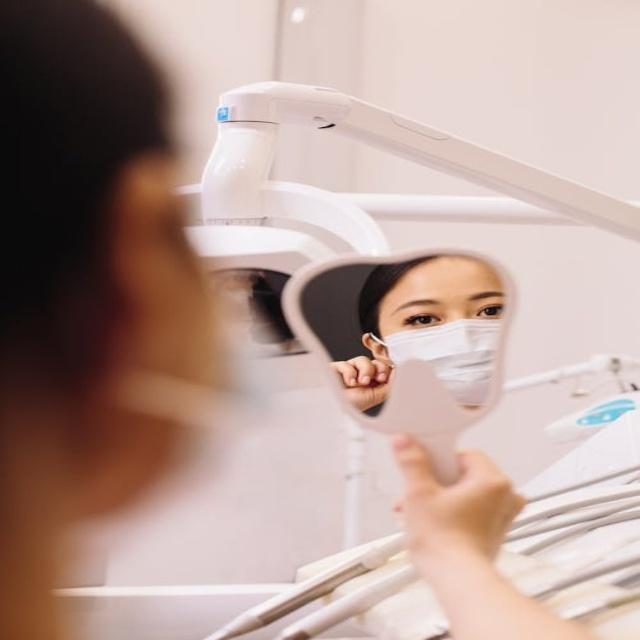Mascara: (370, 318, 503, 407)
Sin_gafas: (392, 294, 502, 327)
Sin_guantes: (387, 434, 522, 566), (329, 353, 393, 413)
